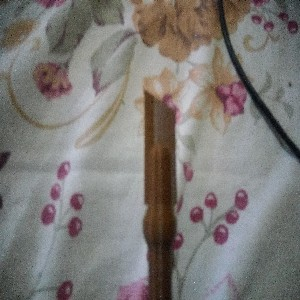cutter: (141, 89, 177, 300)
